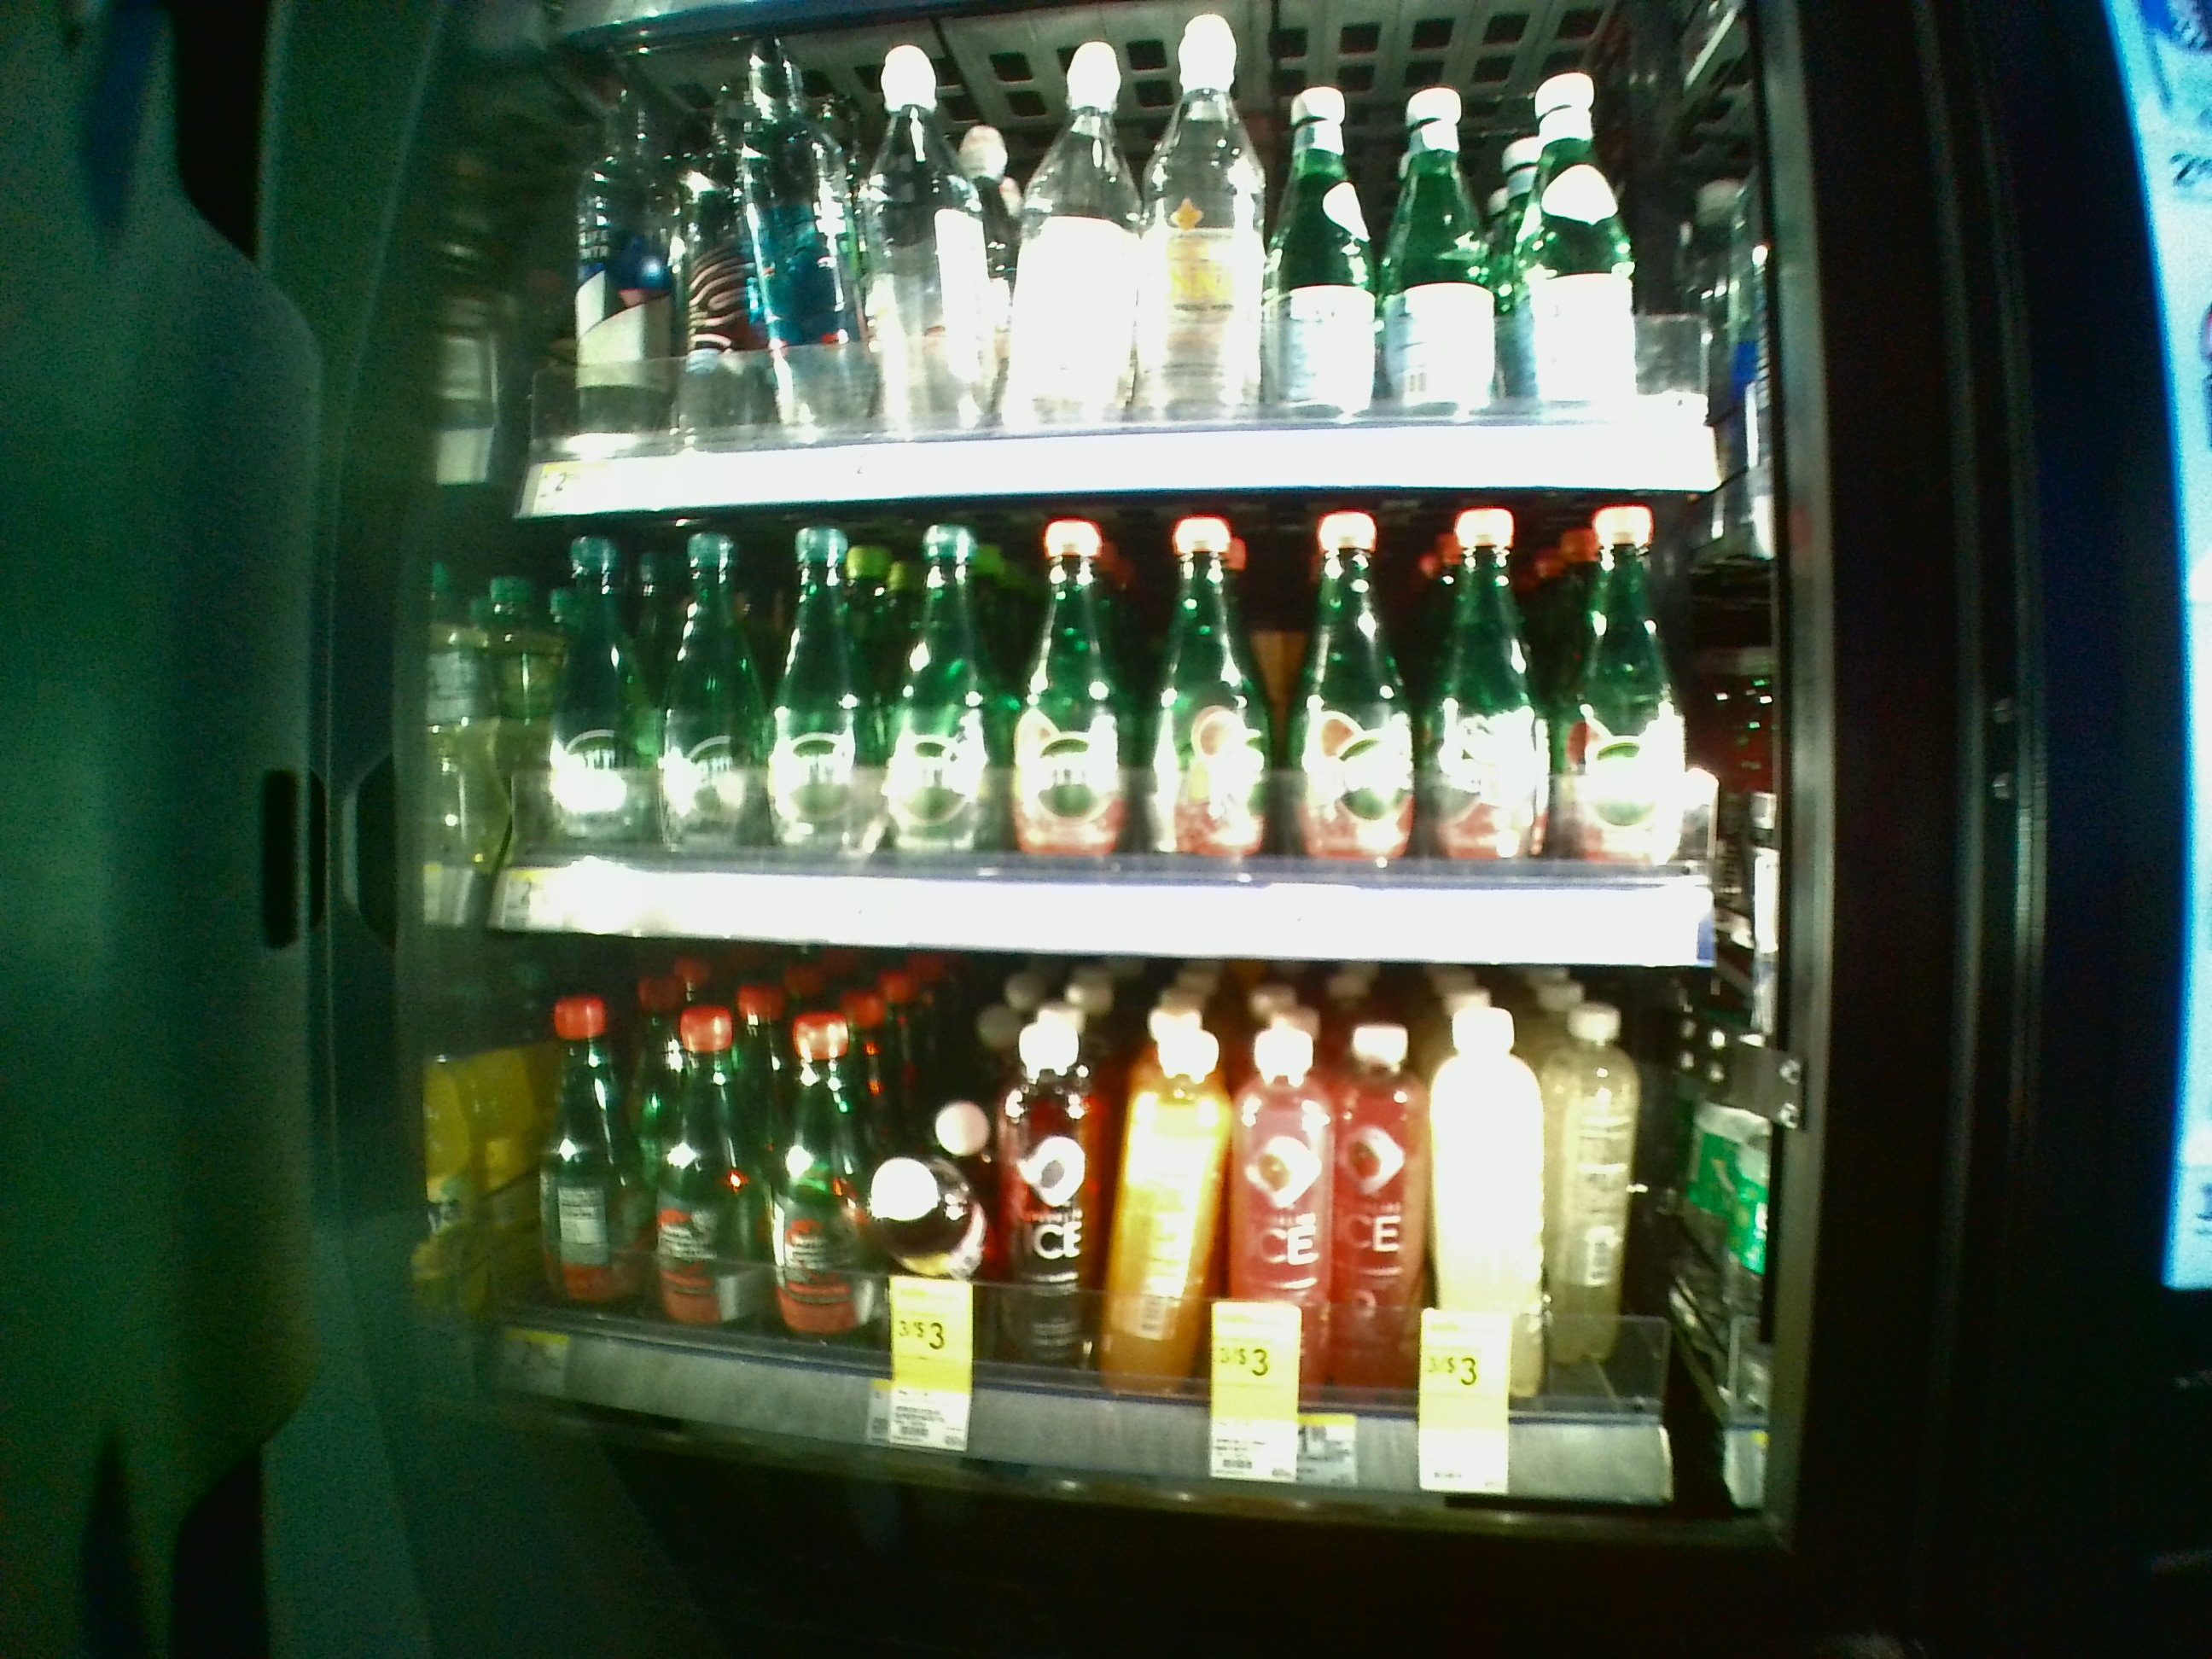shelf: (469, 974, 1735, 1509), (479, 511, 1730, 972)
